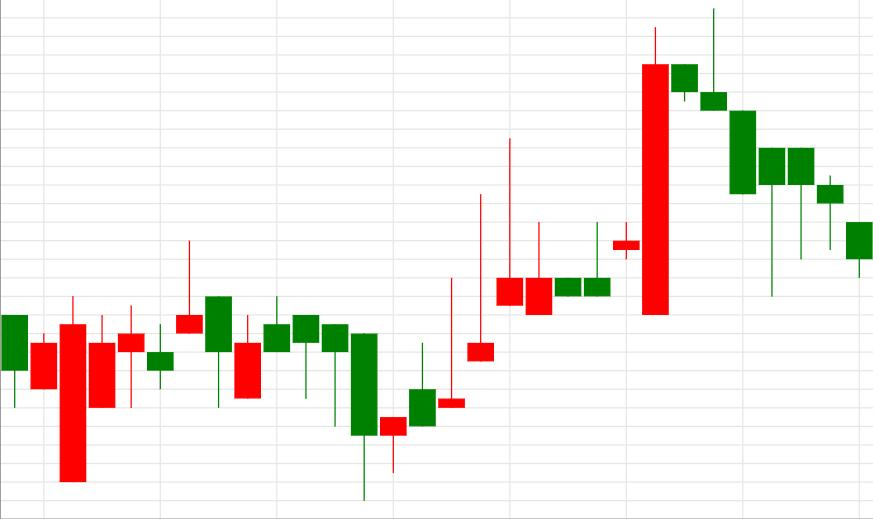shooting_star_fall: (381, 139, 522, 473)
